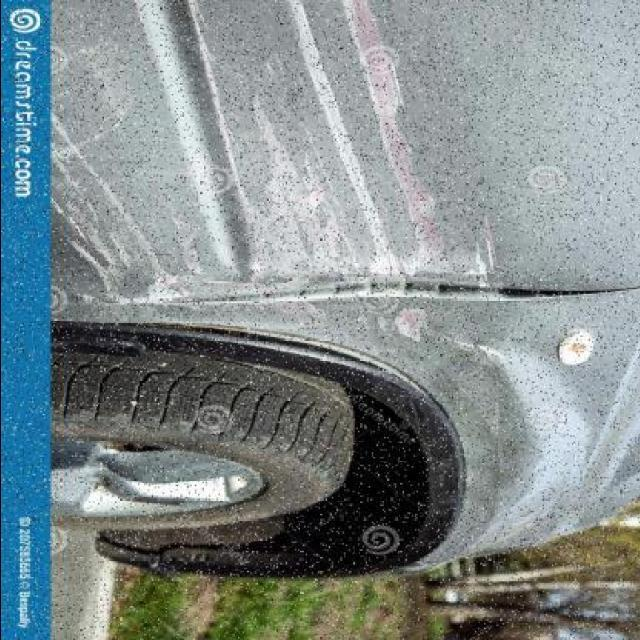doorouter-dent: (51, 0, 639, 297)
fender-dent: (163, 279, 640, 589)
